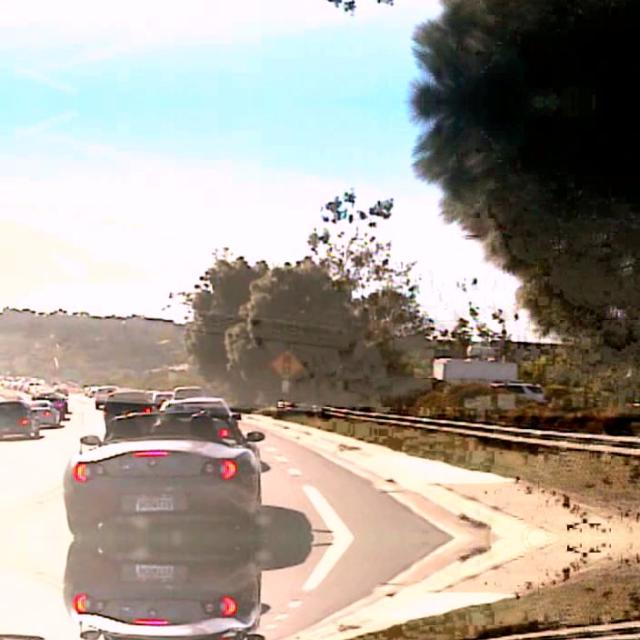signalAhead: (270, 347, 300, 377)
